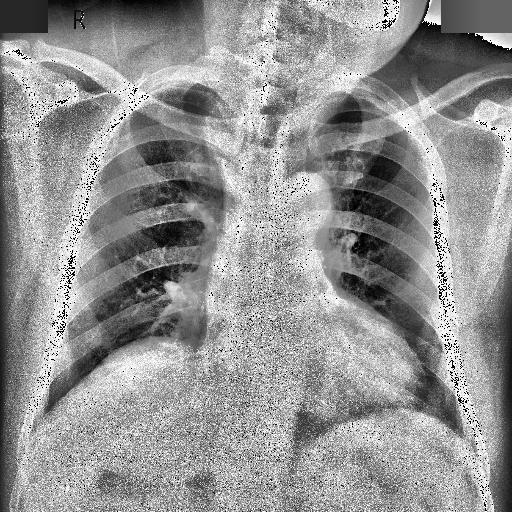0- Aortic enlargement: (262, 168, 334, 242), (276, 168, 330, 247), (283, 172, 332, 240)
3- Cardiomegaly: (202, 287, 426, 424), (201, 296, 428, 416), (204, 310, 422, 420)
7- Lung Opacity: (200, 84, 248, 220)
